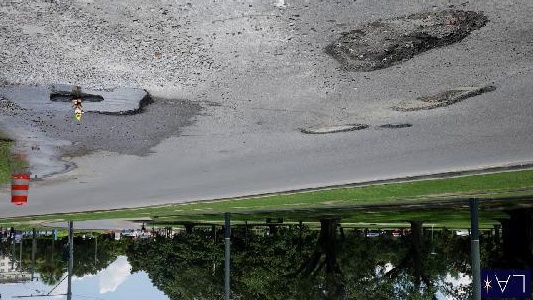pothole: (322, 6, 489, 74), (0, 80, 156, 120), (390, 82, 498, 113), (300, 124, 370, 135), (378, 122, 413, 130)
